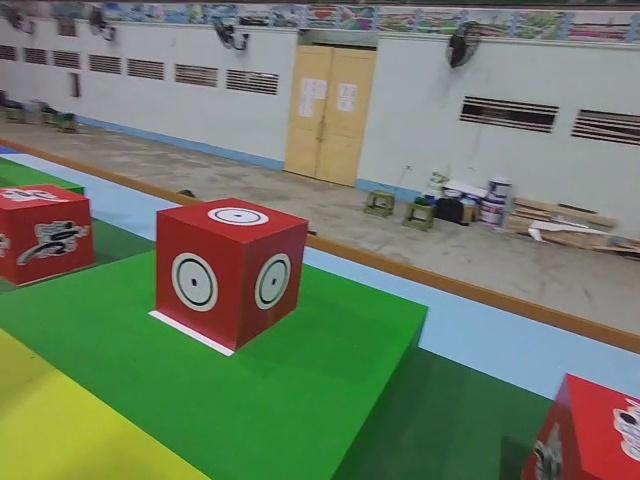R1: (519, 369, 640, 480), (0, 181, 99, 287)
R2 Real: (153, 194, 311, 353)
